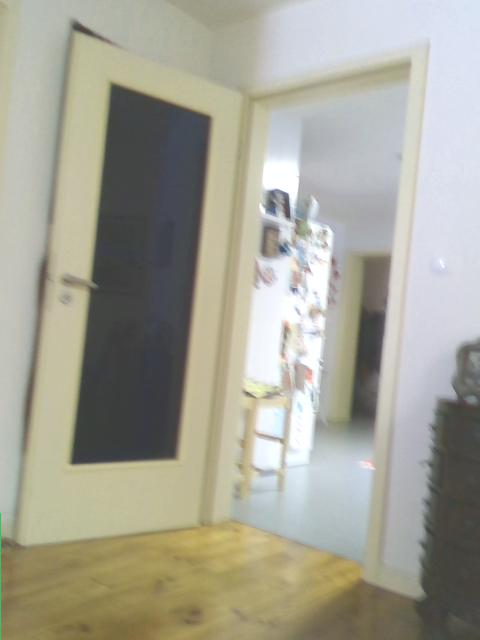open_door: (203, 37, 427, 527)
